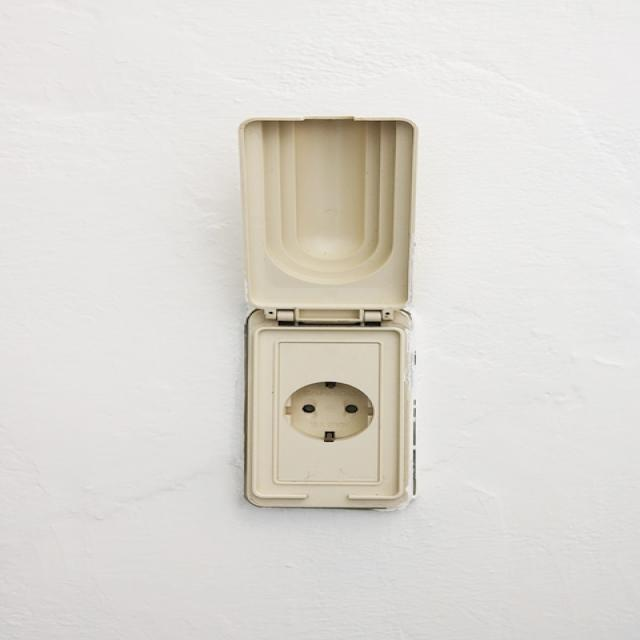typeb: (188, 108, 502, 543)
